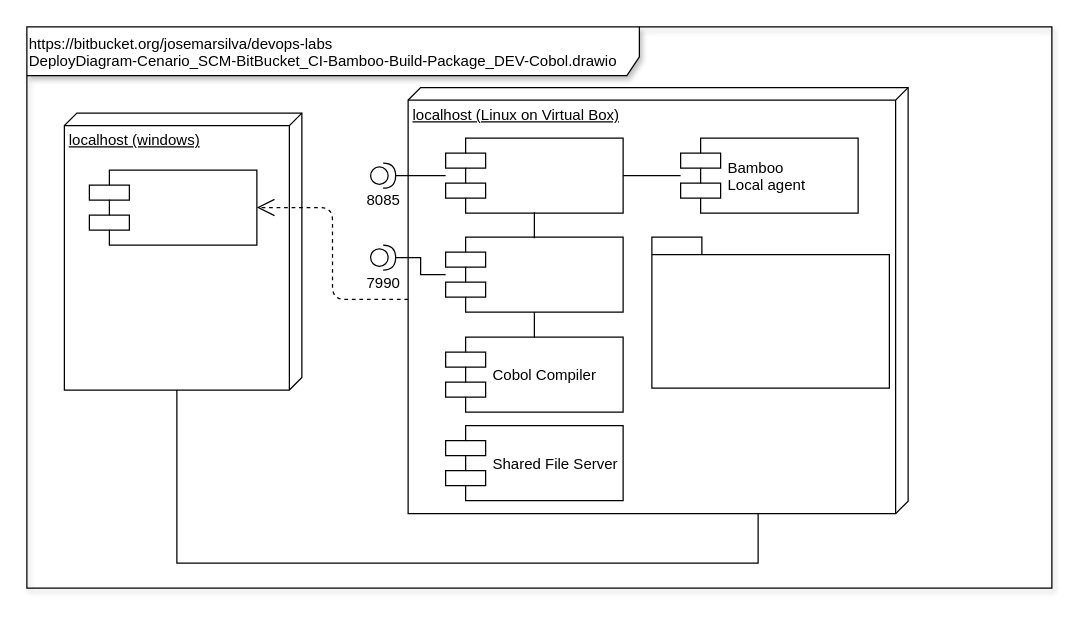
This 1081x619 diagram has some shape labels left out. The centre of each missing label's shape, as x and y in pixels:
"Bamboo" belongs at (x=533, y=175).
"BitBucket" belongs at (x=533, y=274).
"devops-labs-scripts" belongs at (x=770, y=312).
"Virtual Box" belongs at (x=172, y=207).
